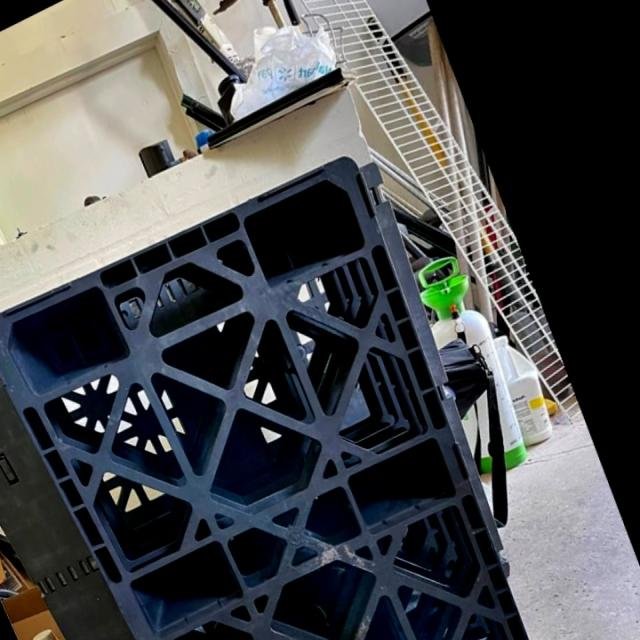non-igps: (0, 147, 539, 640)
